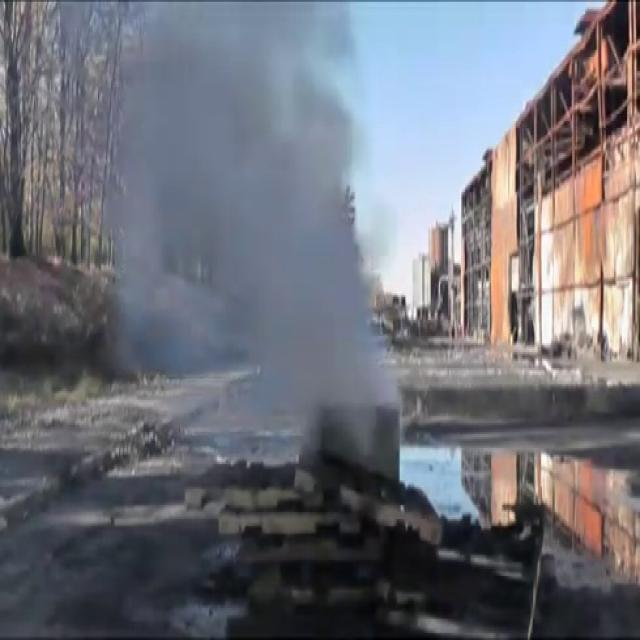Smoke: (81, 1, 409, 472)
